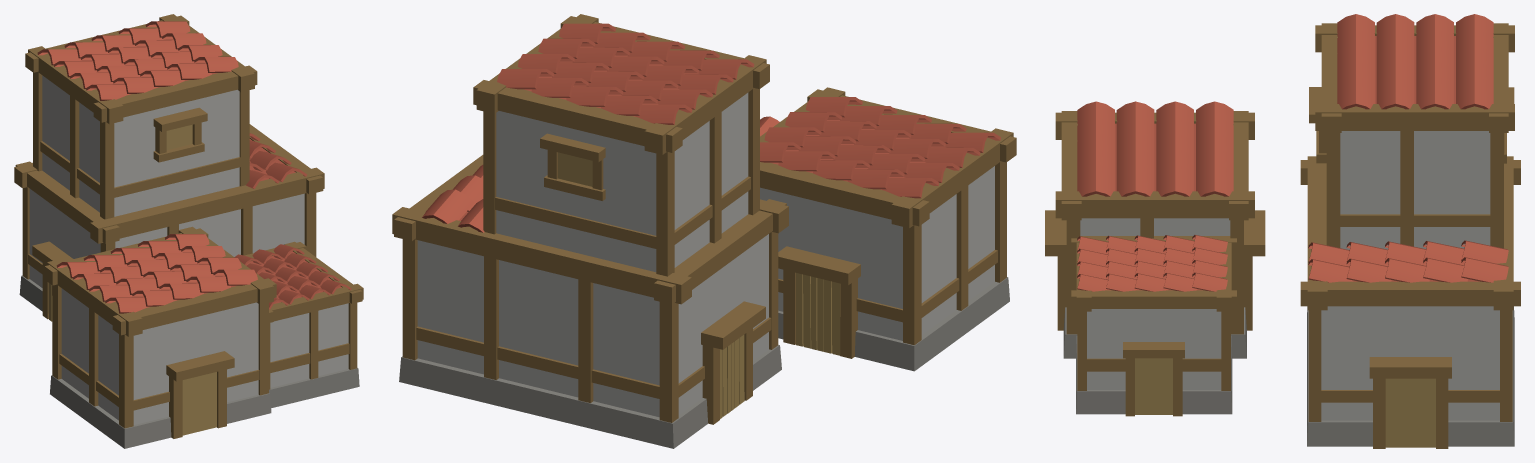
Rendered from Houses_SecondAge_3_Level3.glb.
3 views of the same model, side by side, from view 1: azimuth 30°, elevation 25°; view 2: azimuth 150°, elevation 25°; view 3: azimuth 270°, elevation 25° (orthographic). The views are drawn at different scales.
Parts seen in each view (by area): view 1: Houses_SecondAge_3_Level3; view 2: Houses_SecondAge_3_Level3; view 3: Houses_SecondAge_3_Level3.
Part boxes in pixels (left/top/right/bottom): Houses_SecondAge_3_Level3: left=14, top=14, right=363, bottom=448; Houses_SecondAge_3_Level3: left=392, top=14, right=1016, bottom=448; Houses_SecondAge_3_Level3: left=1045, top=14, right=1520, bottom=448.
Bounding box in the file's own units: 1.35 × 1.06 × 1.46.
1 material, 1 textured.
